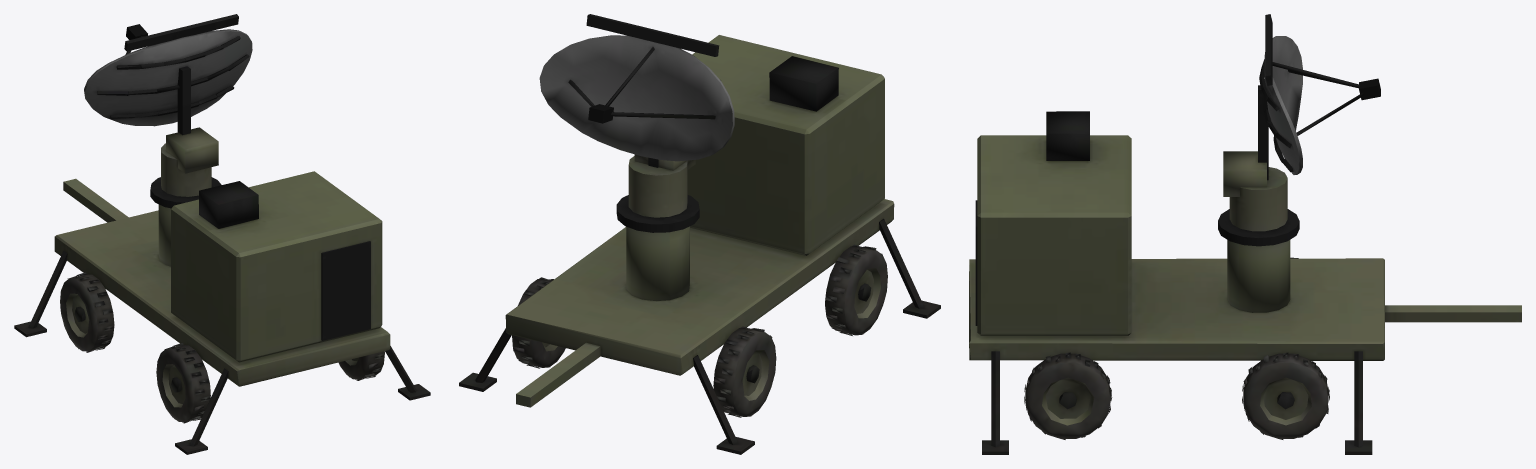
The model's file is radar_lod1.glb.
3 renders of one model, left to right at view 1: azimuth 30°, elevation 25°; view 2: azimuth 150°, elevation 25°; view 3: azimuth 270°, elevation 25°, orthographic. The views are drawn at different scales.
Parts seen in each view (by area): view 1: trailer, dish; view 2: trailer, dish; view 3: trailer, dish.
Part boxes in pixels (x1,y1,x2,y2): trailer: (14,171,430,454); dish: (84,14,252,196); trailer: (459,35,940,454); dish: (539,14,734,217); trailer: (969,111,1521,454); dish: (1223,14,1380,231).
Size of the model in its own units: 3.5 by 4.19 by 6.09.
1 material, 1 textured.
